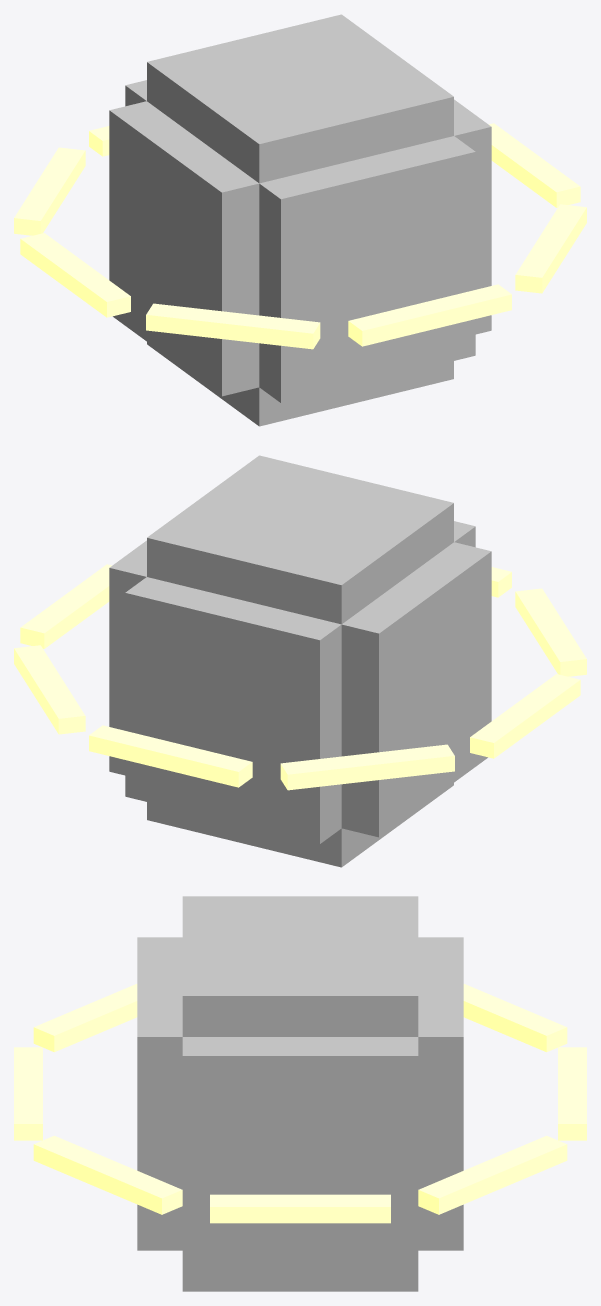
File: FXPlanetA.fbx
3 views of the same model, one above another, from view 1: azimuth 30°, elevation 25°; view 2: azimuth 150°, elevation 25°; view 3: azimuth 270°, elevation 25° (orthographic). The views are drawn at different scales.
Visible parts, largest first — view 1: FX Planet A_body_1, FX Planet A_body_2, FX Planet A_body_0, FX Planet A_body_8, FX Planet A_body_9, FX Planet A_body_7, FX Planet A_body_3, FX Planet A_body_10, FX Planet A_body_6, FX Planet A_body_5; view 2: FX Planet A_body_1, FX Planet A_body_2, FX Planet A_body_0, FX Planet A_body_6, FX Planet A_body_5, FX Planet A_body_7, FX Planet A_body_3, FX Planet A_body_4, FX Planet A_body_8, FX Planet A_body_9; view 3: FX Planet A_body_0, FX Planet A_body_2, FX Planet A_body_1, FX Planet A_body_3, FX Planet A_body_10, FX Planet A_body_4, FX Planet A_body_6, FX Planet A_body_8, FX Planet A_body_5, FX Planet A_body_9.
Part boxes in pixels (<box>): FX Planet A_body_1: <box>125,80,475,402</box>; FX Planet A_body_2: <box>147,14,453,426</box>; FX Planet A_body_0: <box>109,99,491,396</box>; FX Planet A_body_8: <box>146,303,320,349</box>; FX Planet A_body_9: <box>348,284,511,346</box>; FX Planet A_body_7: <box>20,233,130,317</box>; FX Planet A_body_3: <box>489,123,580,207</box>; FX Planet A_body_10: <box>515,204,586,293</box>; FX Planet A_body_6: <box>14,147,85,235</box>; FX Planet A_body_5: <box>89,126,109,156</box>; FX Planet A_body_1: <box>125,521,475,843</box>; FX Planet A_body_2: <box>147,455,453,867</box>; FX Planet A_body_0: <box>109,540,491,837</box>; FX Planet A_body_6: <box>280,744,454,790</box>; FX Planet A_body_5: <box>89,725,252,787</box>; FX Planet A_body_7: <box>470,674,580,758</box>; FX Planet A_body_3: <box>20,564,111,648</box>; FX Planet A_body_4: <box>14,645,85,734</box>; FX Planet A_body_8: <box>515,588,586,676</box>; FX Planet A_body_9: <box>491,567,511,597</box>; FX Planet A_body_0: <box>182,1037,418,1269</box>; FX Planet A_body_2: <box>182,896,418,1291</box>; FX Planet A_body_1: <box>137,937,463,1250</box>; FX Planet A_body_3: <box>210,1194,390,1223</box>; FX Planet A_body_10: <box>33,1135,182,1214</box>; FX Planet A_body_4: <box>418,1135,567,1214</box>; FX Planet A_body_6: <box>463,984,567,1052</box>; FX Planet A_body_8: <box>33,984,137,1052</box>; FX Planet A_body_5: <box>558,1047,586,1140</box>; FX Planet A_body_9: <box>14,1047,42,1140</box>.
Bounding box in the file's own units: 158 × 90 × 158.
